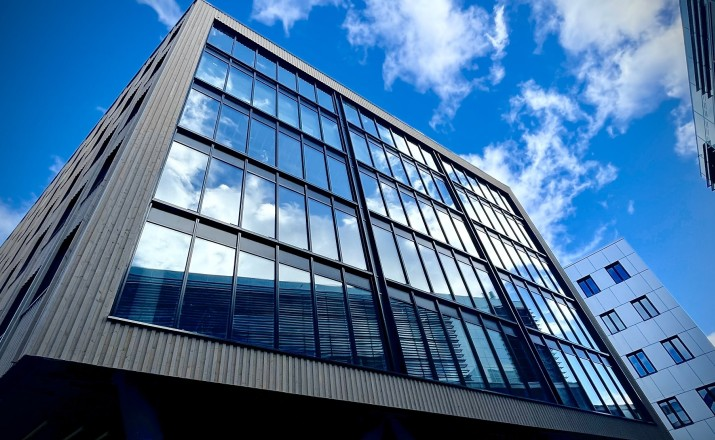glass panel: (115, 223, 190, 325), (178, 238, 235, 337), (231, 252, 274, 347), (155, 142, 207, 210), (504, 327, 551, 400), (346, 284, 386, 369), (278, 264, 315, 355), (390, 299, 432, 378), (417, 307, 459, 383), (315, 275, 351, 361), (444, 316, 484, 388), (465, 322, 506, 391), (201, 158, 242, 224), (487, 329, 527, 395), (578, 357, 622, 415), (550, 349, 592, 409), (536, 344, 576, 406), (593, 362, 636, 418), (565, 354, 607, 411), (242, 173, 275, 236), (372, 225, 405, 282), (179, 89, 218, 137), (418, 244, 452, 299), (437, 252, 471, 306), (543, 292, 579, 342), (457, 261, 492, 312), (278, 187, 307, 248), (476, 268, 511, 318), (335, 210, 365, 268), (397, 236, 429, 290), (501, 275, 534, 327), (309, 199, 337, 259), (530, 288, 563, 337), (215, 105, 248, 152), (517, 285, 549, 332), (248, 119, 275, 165), (502, 239, 533, 279), (568, 304, 596, 348), (488, 233, 518, 274), (359, 172, 386, 215), (196, 52, 227, 89), (532, 256, 562, 293), (401, 191, 427, 233), (380, 182, 406, 224), (436, 209, 463, 249), (418, 201, 445, 241), (327, 156, 352, 199), (278, 133, 302, 177), (452, 217, 479, 256), (477, 228, 503, 267), (304, 145, 327, 188), (226, 67, 252, 102), (418, 168, 441, 201), (386, 150, 408, 184), (253, 81, 275, 115), (321, 114, 342, 148), (515, 246, 537, 278), (350, 131, 371, 164), (369, 142, 390, 175), (505, 215, 528, 245), (456, 189, 478, 220), (278, 93, 298, 127), (404, 161, 425, 193), (300, 105, 320, 138), (470, 196, 492, 226), (434, 177, 454, 207), (483, 204, 504, 232), (208, 28, 232, 52), (232, 41, 254, 66), (517, 220, 535, 248), (489, 206, 507, 234), (255, 54, 275, 78), (406, 140, 425, 163), (467, 174, 486, 197), (298, 76, 315, 101), (317, 87, 334, 112), (278, 66, 295, 90), (393, 133, 411, 155), (376, 123, 394, 145), (343, 103, 360, 126), (360, 113, 377, 136), (480, 182, 497, 204), (421, 148, 437, 169), (443, 162, 459, 182), (455, 166, 468, 187)
